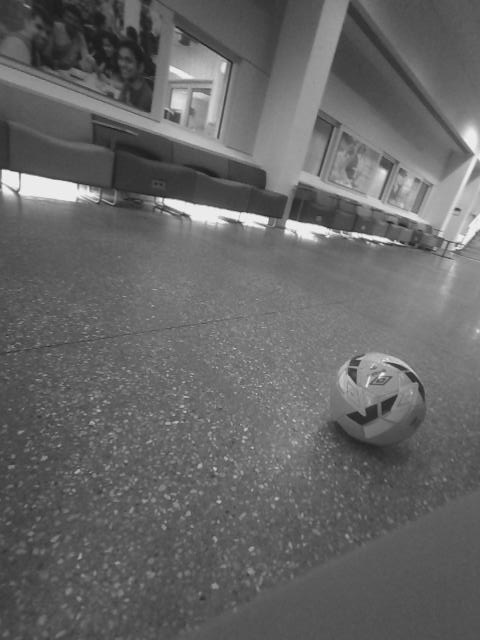ball: (298, 299, 370, 367)
